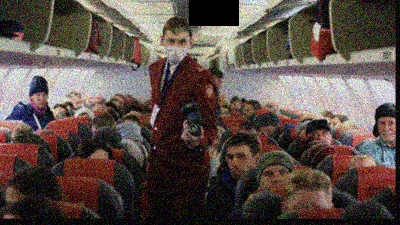with_mask: (165, 36, 190, 62)
without_mask: (229, 146, 253, 179), (378, 120, 395, 143), (31, 92, 49, 107), (215, 79, 225, 95)
